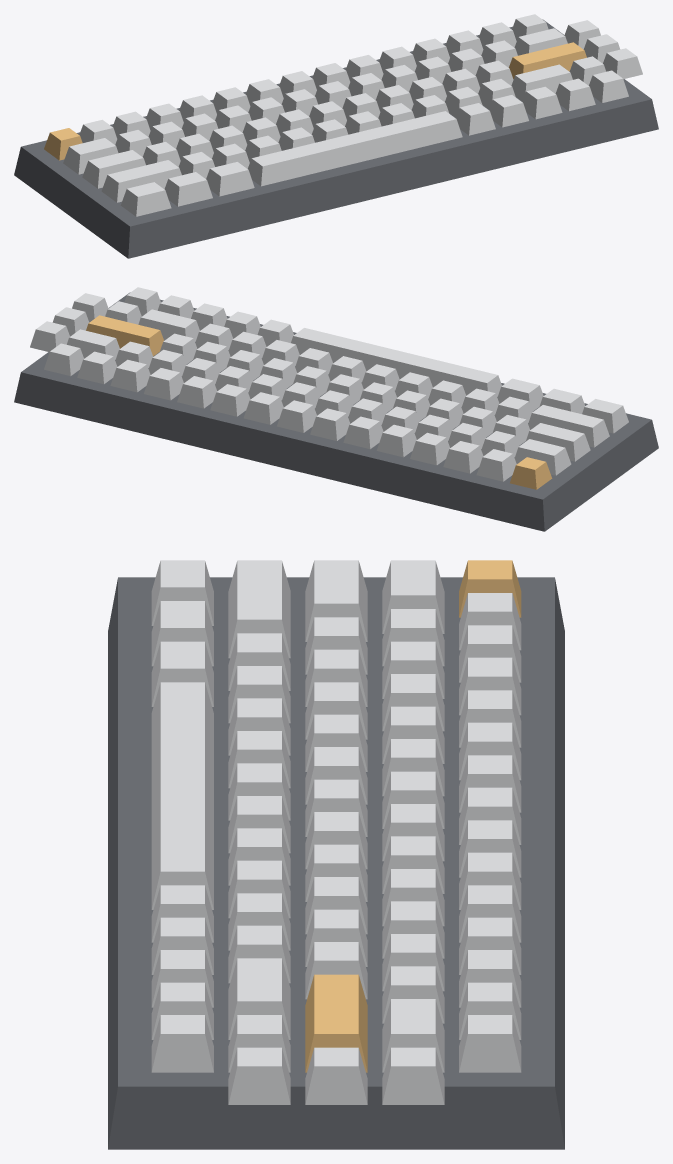
File: keyboard.glb
3 renders of one model, top to bottom at view 1: azimuth 30°, elevation 25°; view 2: azimuth 150°, elevation 25°; view 3: azimuth 270°, elevation 25°, orthographic. The views are drawn at different scales.
Parts seen in each view (by area): view 1: teclas, cuerpo, acento; view 2: teclas, cuerpo, acento; view 3: teclas, cuerpo, acento.
Boxes of the visible parts, x1,y1,x2,y2 form: teclas: [63, 14, 642, 216]; cuerpo: [14, 19, 658, 258]; acento: [44, 42, 586, 160]; teclas: [30, 287, 628, 481]; cuerpo: [14, 292, 658, 531]; acento: [86, 315, 552, 489]; teclas: [151, 560, 521, 1104]; cuerpo: [108, 577, 564, 1149]; acento: [305, 560, 521, 1072].
Bounding box in the file's own units: 1 × 0.0819 × 0.3631.
